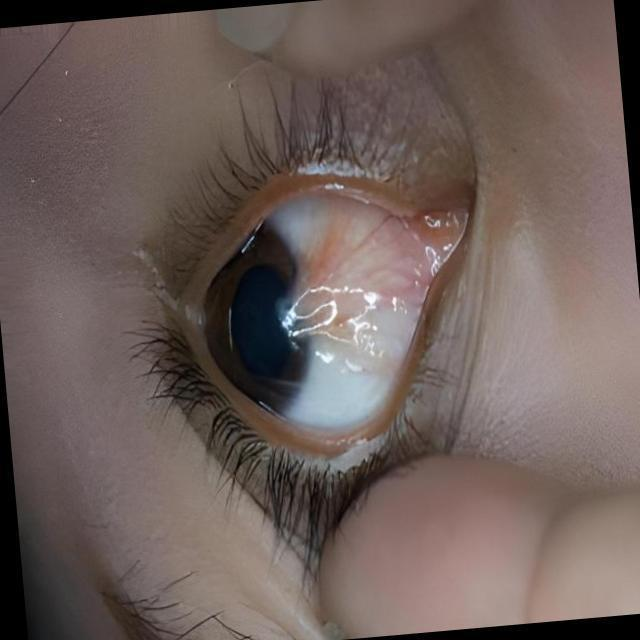Pterygium: (268, 200, 442, 398)
